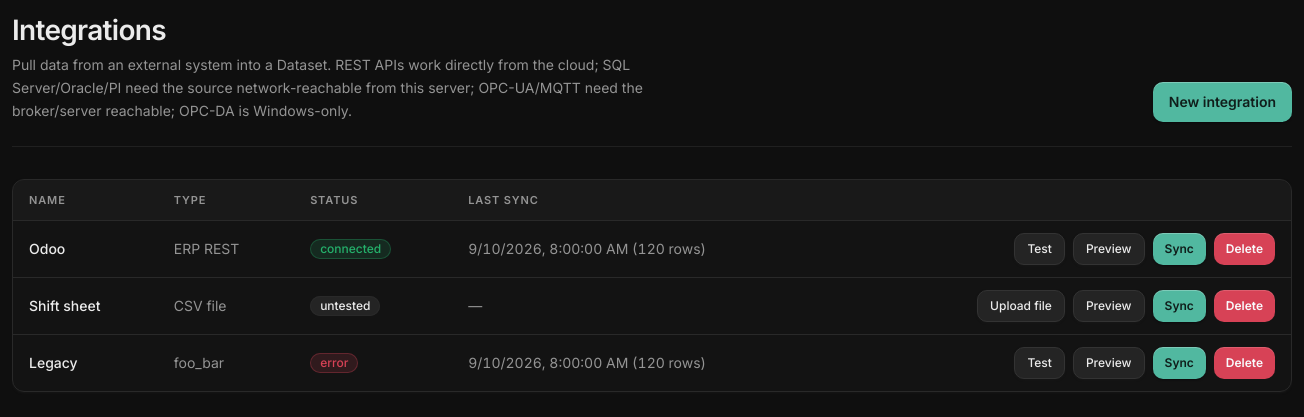
Integrations › syncs and shows the row count and dataset, or the sync error
This screenshot has width=1304, height=417.
Expected: the text "Odoo" is shown, [13,220,158,277]
Click the button "Sync" in the row of "Odoo". click: coordinates (1179, 249)
box: [1153,233,1206,265]
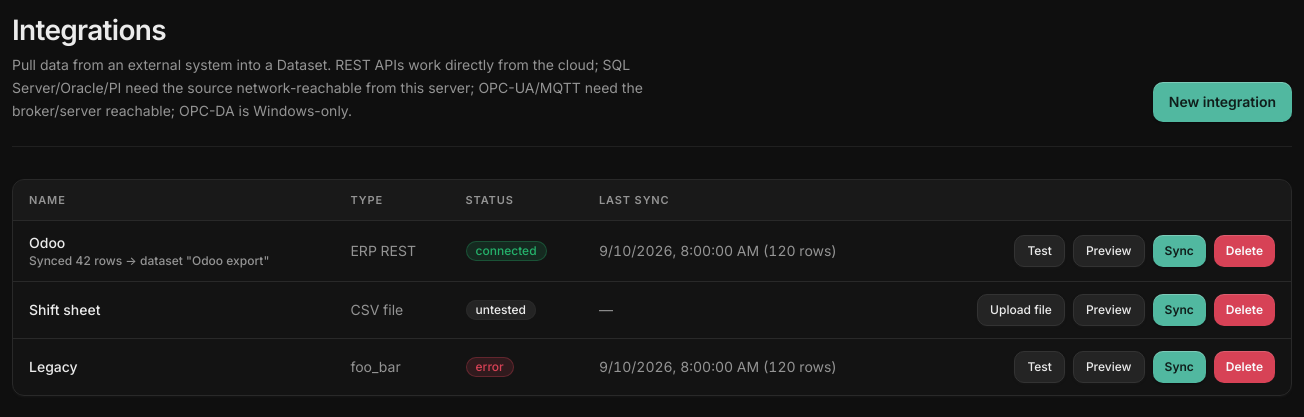
Result: the text "Synced 42 rows → dataset \"Odoo export\"" is shown at [29,253,269,268]
Click the button "Sync" in the row of "Legacy". click: coordinates (1179, 367)
box: [1153,351,1206,383]
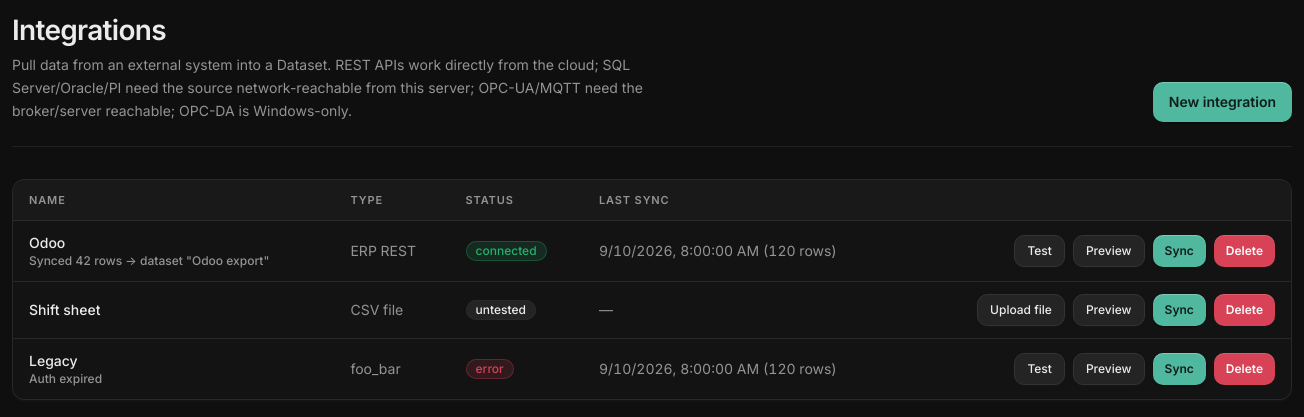
Result: the text "Auth expired" is shown at [29,371,102,386]
